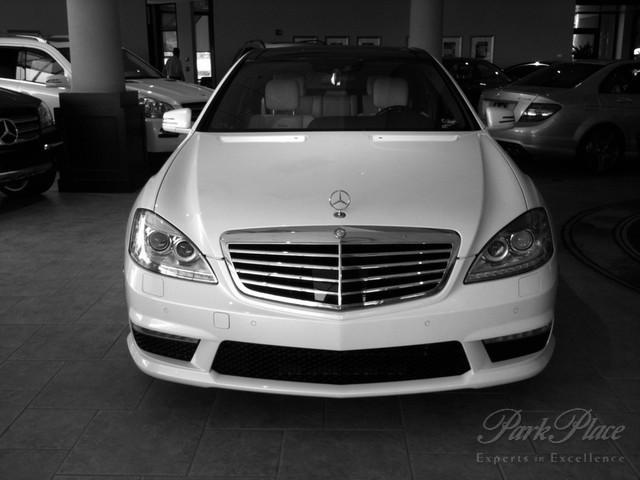car: (122, 39, 564, 402)
